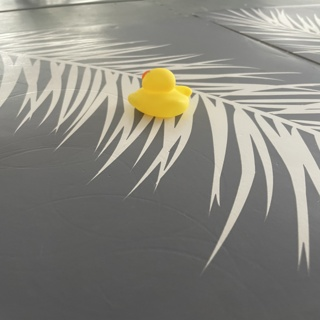duck_regular: (126, 69, 189, 113)
